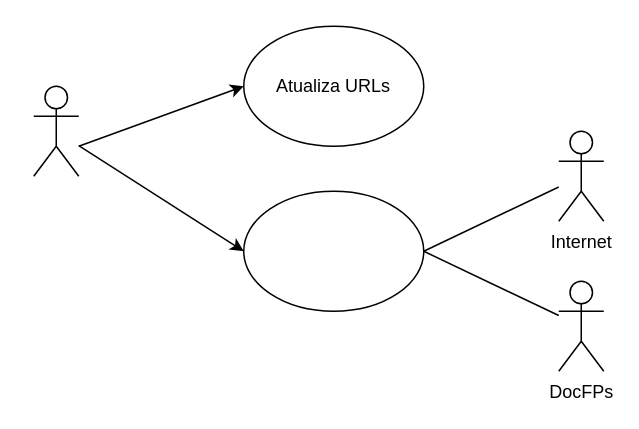
The diagram is 639 pixels wide and 429 high, and some of its shapes have lost their labels. The centre of each missing label's shape, as x and y in pixels:
Busca: the point at 333,250
Usuário: the point at 55,130
